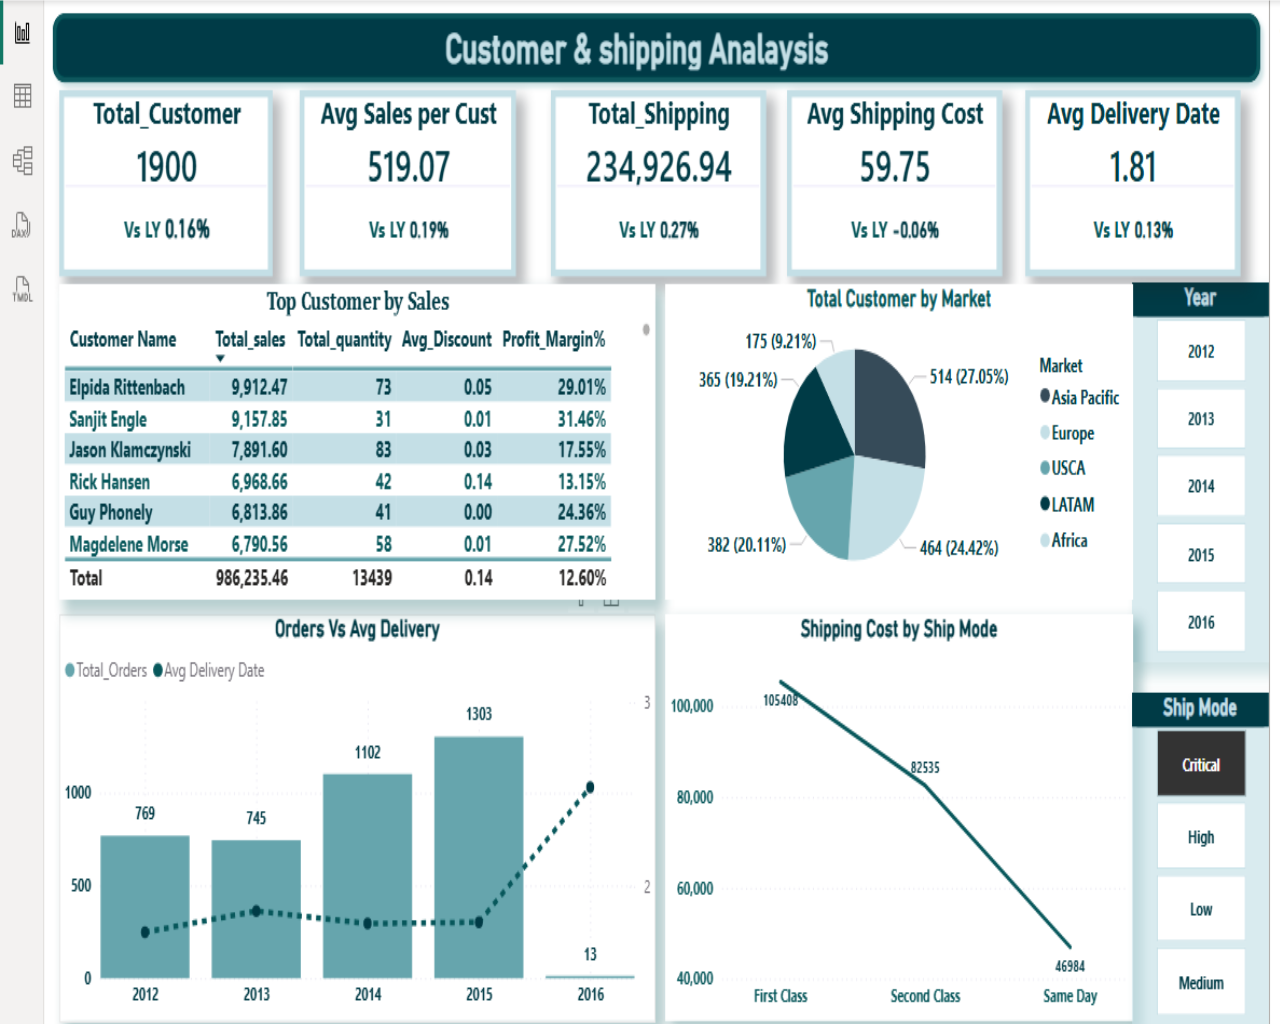

The dashboard page shown, as its layout file describes it:
{"tool":"powerbi","page":{"name":"Customer & Shipping","canvas":[1280,720],"ordinal":2},"visuals":[{"type":"shape","box":[0,0,1280,66.7],"z":0},{"type":"textbox","title":"Customer & shipping Analaysis","box":[366.7,16.7,506.7,31.7],"z":1000},{"type":"slicer","title":"Year","fields":{"Values":["Date_Dim.Year"]},"box":[1137.4,198.7,142.6,266.9],"z":2000},{"type":"cardVisual","fields":{"Data":["Measure1_Total.Total_Customer"]},"box":[15.8,63.3,223.1,131.3],"z":3000},{"type":"cardVisual","fields":{"Data":["Measure1_Total.Avg Shipping Cost"]},"box":[776.9,63.3,224.7,131.3],"z":4000},{"type":"cardVisual","fields":{"Data":["Measure1_Total.Total_Shipping"]},"box":[530,63.3,224.7,131.3],"z":5000},{"type":"cardVisual","fields":{"Data":["Measure1_Total.Avg Sales per Customer"]},"box":[267.4,63.3,226.3,131.3],"z":6000},{"type":"cardVisual","fields":{"Data":["Measure1_Total.Avg Delivery Date"]},"box":[1025.3,63.3,224.7,131.3],"z":7000},{"type":"lineStackedColumnComboChart","title":"Orders Vs Avg Delivery","fields":{"Category":["Date_Dim.Year"],"Y":["Measure1_Total.Total_Orders"],"Y2":["Measure1_Total.Avg Delivery Date"]},"box":[15.8,431.9,623.4,286.4],"z":8000},{"type":"actionButton","box":[0,0,100,40],"z":9000},{"type":"tableEx","title":"Top Customer by Sales","fields":{"Values":["Customer_Dim.Customer Name","Measure1_Total.Total_sales","Measure1_Total.Total_quantity","Measure1_Total.Avg_Discount","Measure1_Total.Profit_Margen%"]},"box":[15.8,199.4,623.4,221.5],"z":10000},{"type":"lineChart","title":"Shipping Cost by Ship Mode","fields":{"Category":["Junk_Dim.Ship Mode"],"Y":["Sum(Fact_Table.Shipping Cost)"]},"box":[648.7,431.9,488.9,286.4],"z":11000},{"type":"pieChart","title":"Total Customer by Market","fields":{"Category":["Location_Dim.Market"],"Y":["Measure1_Total.Total_Customer"]},"box":[648.7,199.4,488.9,221.5],"z":12000},{"type":"slicer","title":"Ship Mode","fields":{"Values":["Junk_Dim.Order Priority"]},"box":[1137.4,486.8,142.6,233.6],"z":13000}]}

Visuals, with their boxes on the page's 1280x720 design canvas (x1, y1, x2, y2). These are canvas units, not pixel positions in the 1280x1024 screenshot, which may show the page scaled, cropped or inside an application window:
shape: 0, 0, 1280, 67
"Customer & shipping Analaysis" textbox: 367, 17, 873, 48
"Year" slicer: 1137, 199, 1280, 466
cardVisual - Measure1_Total.Total_Customer: 16, 63, 239, 195
cardVisual - Measure1_Total.Avg Shipping Cost: 777, 63, 1002, 195
cardVisual - Measure1_Total.Total_Shipping: 530, 63, 755, 195
cardVisual - Measure1_Total.Avg Sales per Customer: 267, 63, 494, 195
cardVisual - Measure1_Total.Avg Delivery Date: 1025, 63, 1250, 195
"Orders Vs Avg Delivery" lineStackedColumnComboChart: 16, 432, 639, 718
actionButton: 0, 0, 100, 40
"Top Customer by Sales" tableEx: 16, 199, 639, 421
"Shipping Cost by Ship Mode" lineChart: 649, 432, 1138, 718
"Total Customer by Market" pieChart: 649, 199, 1138, 421
"Ship Mode" slicer: 1137, 487, 1280, 720
